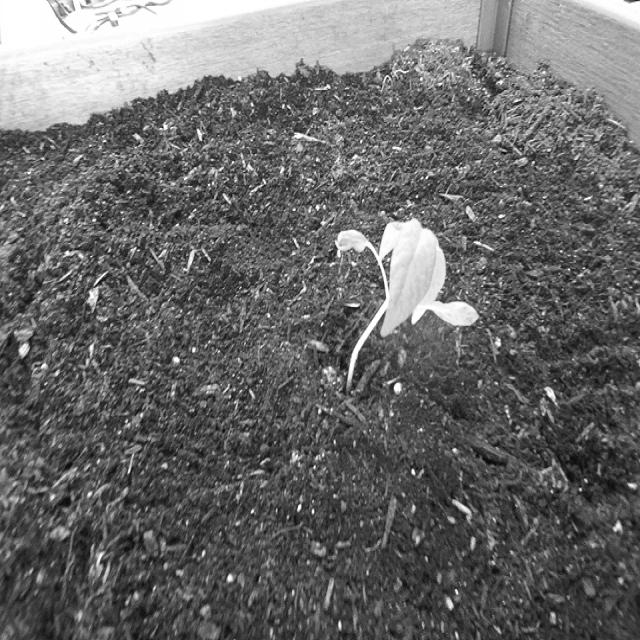Healthy: (328, 198, 486, 412)
